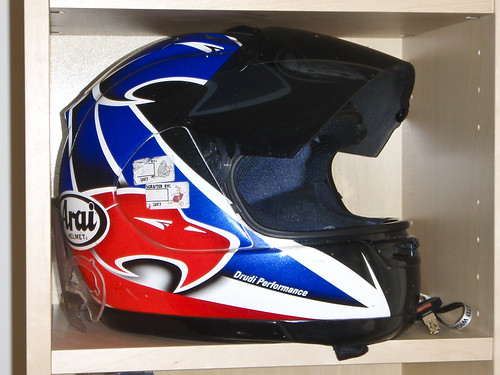helmet: (43, 10, 448, 351)
